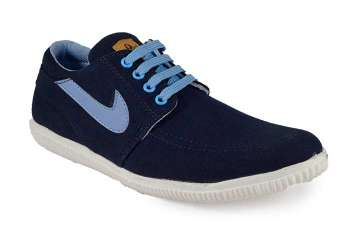Footwear: (23, 26, 337, 204)
